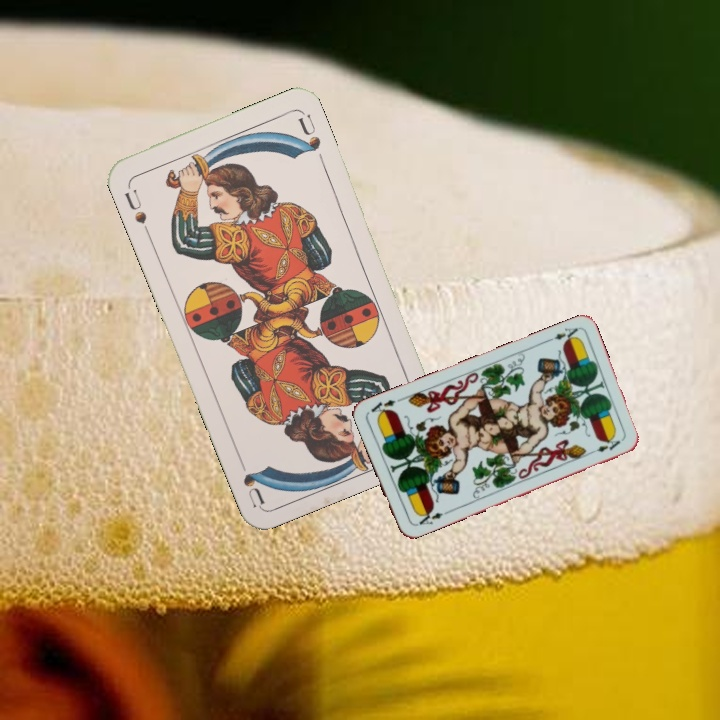EA: (542, 323, 580, 346), (411, 506, 445, 529)
SU: (120, 185, 153, 237)
